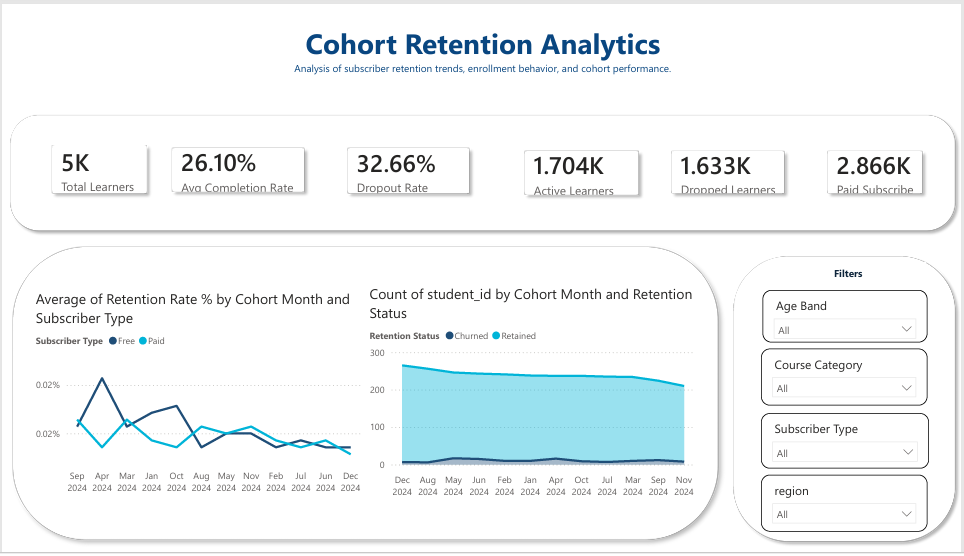

The dashboard page shown, as its layout file describes it:
{"tool":"powerbi","page":{"name":"Cohort Retention Analytics","canvas":[1280,720],"ordinal":5},"visuals":[{"type":"shape","box":[3.3,306.7,963.3,413.3],"z":0},{"type":"shape","box":[966,322,314,398],"z":1000},{"type":"shape","box":[2,134,1278,172],"z":2000},{"type":"cardVisual","fields":{"Data":["student_dropout_dataset.Avg Completion Rate"]},"box":[198,158,234,116],"z":3000},{"type":"cardVisual","fields":{"Data":["student_dropout_dataset.Total Learners"]},"box":[40,156,180,118],"z":4000},{"type":"cardVisual","fields":{"Data":["student_dropout_dataset.Dropout Rate"]},"box":[432,158,220,118],"z":5000},{"type":"textbox","box":[2,0,1278,134],"z":6000},{"type":"slicer","fields":{"Values":["student_dropout_dataset.Age Band"]},"box":[1014,376,220,70],"z":7000},{"type":"slicer","fields":{"Values":["student_dropout_dataset.region"]},"box":[1012,622,222,76],"z":8000},{"type":"slicer","fields":{"Values":["student_dropout_dataset.Course Category"]},"box":[1012,454,222,76],"z":9000},{"type":"slicer","fields":{"Values":["student_dropout_dataset.Subscriber Type"]},"box":[1012,540,224,74],"z":10000},{"type":"textbox","box":[1024.3,340,208.6,28.6],"z":11000},{"type":"cardVisual","fields":{"Data":["student_dropout_dataset.Active Learners"]},"box":[668,162,210,116],"z":12000},{"type":"cardVisual","fields":{"Data":["student_dropout_dataset.Paid Subscribers"]},"box":[1072,162,184,114],"z":13000},{"type":"cardVisual","fields":{"Data":["student_dropout_dataset.Dropped Learners"]},"box":[864,162,208,114],"z":14000},{"type":"lineChart","fields":{"Category":["student_dropout_dataset.Cohort Month"],"Y":["Avg(student_dropout_dataset.Retention Rate %)"],"Series":["student_dropout_dataset.Subscriber Type"]},"box":[40,375,445,280],"z":15000},{"type":"stackedAreaChart","fields":{"Y":["CountNonNull(student_dropout_dataset.student_id)"],"Category":["student_dropout_dataset.Cohort Month"],"Series":["student_dropout_dataset.Retention Status"]},"box":[485,368.3,445,291.7],"z":16000}]}

Visuals, with their boxes in screenshot pixels (x1, y1, x2, y2), scaled from the page's 1280x720 canvas onto the 964x556 screenshot:
shape: bbox(2, 237, 728, 555)
shape: bbox(728, 249, 963, 555)
shape: bbox(2, 103, 963, 236)
cardVisual - student_dropout_dataset.Avg Completion Rate: bbox(149, 122, 325, 212)
cardVisual - student_dropout_dataset.Total Learners: bbox(30, 120, 166, 212)
cardVisual - student_dropout_dataset.Dropout Rate: bbox(325, 122, 491, 213)
textbox: bbox(2, 0, 963, 103)
slicer - student_dropout_dataset.Age Band: bbox(764, 290, 929, 344)
slicer - student_dropout_dataset.region: bbox(762, 480, 929, 539)
slicer - student_dropout_dataset.Course Category: bbox(762, 351, 929, 409)
slicer - student_dropout_dataset.Subscriber Type: bbox(762, 417, 931, 474)
textbox: bbox(771, 263, 929, 285)
cardVisual - student_dropout_dataset.Active Learners: bbox(503, 125, 661, 215)
cardVisual - student_dropout_dataset.Paid Subscribers: bbox(807, 125, 946, 213)
cardVisual - student_dropout_dataset.Dropped Learners: bbox(651, 125, 807, 213)
lineChart - student_dropout_dataset.Cohort Month x Avg(student_dropout_dataset.Retention Rate %): bbox(30, 290, 365, 506)
stackedAreaChart - CountNonNull(student_dropout_dataset.student_id) x student_dropout_dataset.Cohort Month: bbox(365, 284, 700, 510)
